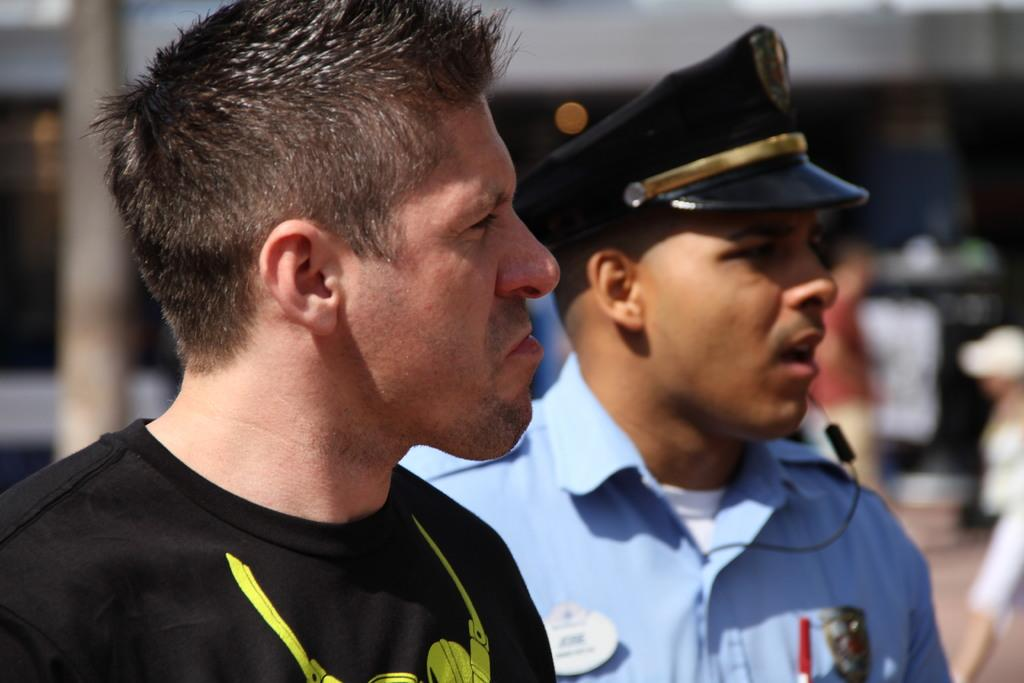Hat: (514, 22, 870, 251), (960, 325, 1022, 378)
